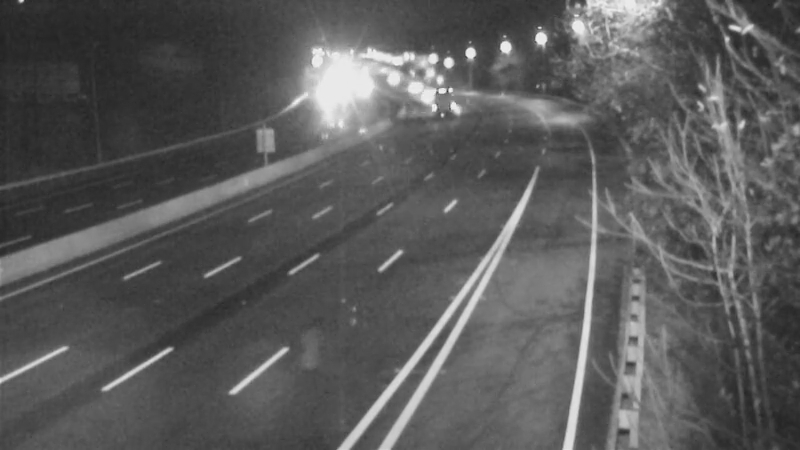vehicle: (367, 53, 417, 103), (389, 62, 439, 112), (408, 75, 458, 125)
